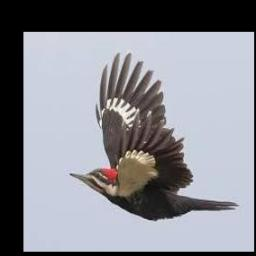Woodpecker: (69, 52, 239, 219)
